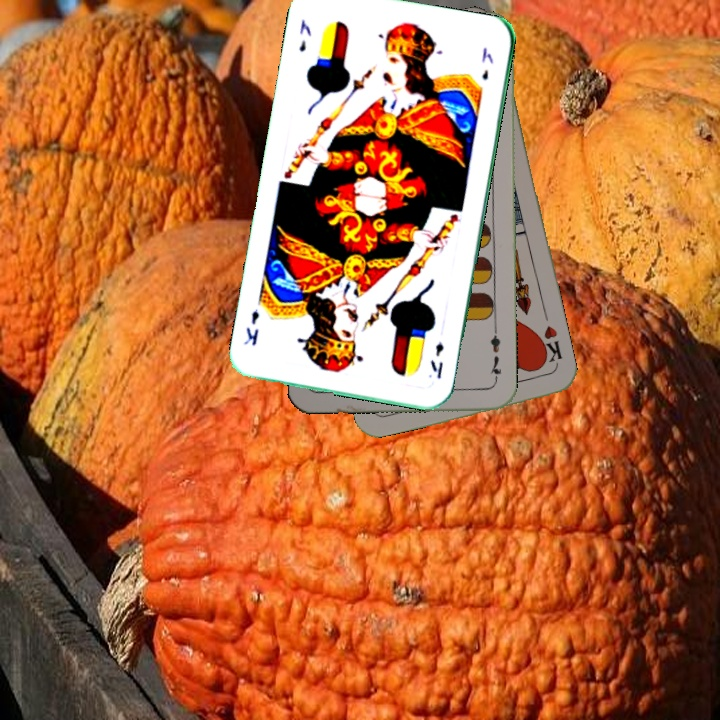E7: (486, 326, 504, 385)
EK: (426, 337, 446, 381), (295, 16, 314, 55)
HK: (533, 321, 565, 372)
